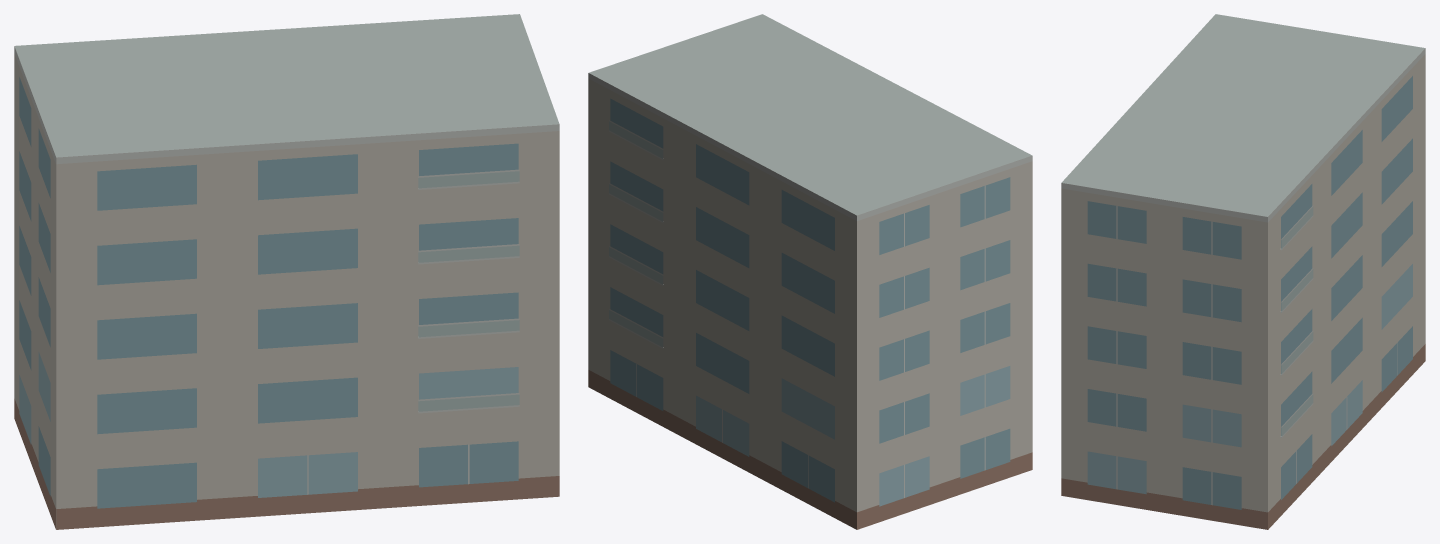
The model's file is survey-upis-32963073.glb.
The picture shows the model from 3 angles, left to right: view 1: azimuth 30°, elevation 25°; view 2: azimuth 150°, elevation 25°; view 3: azimuth 270°, elevation 25°; orthographic projection. The views are drawn at different scales.
Visible parts, largest first — view 1: survey-upis-32963073.tmp; view 2: survey-upis-32963073.tmp; view 3: survey-upis-32963073.tmp.
Boxes of the visible parts, box(x1,y1,x2,y2) form: survey-upis-32963073.tmp: box(14, 14, 559, 529); survey-upis-32963073.tmp: box(588, 14, 1032, 529); survey-upis-32963073.tmp: box(1061, 14, 1425, 529).
Size of the model in its own units: 18.93 by 13.6 by 14.36.
